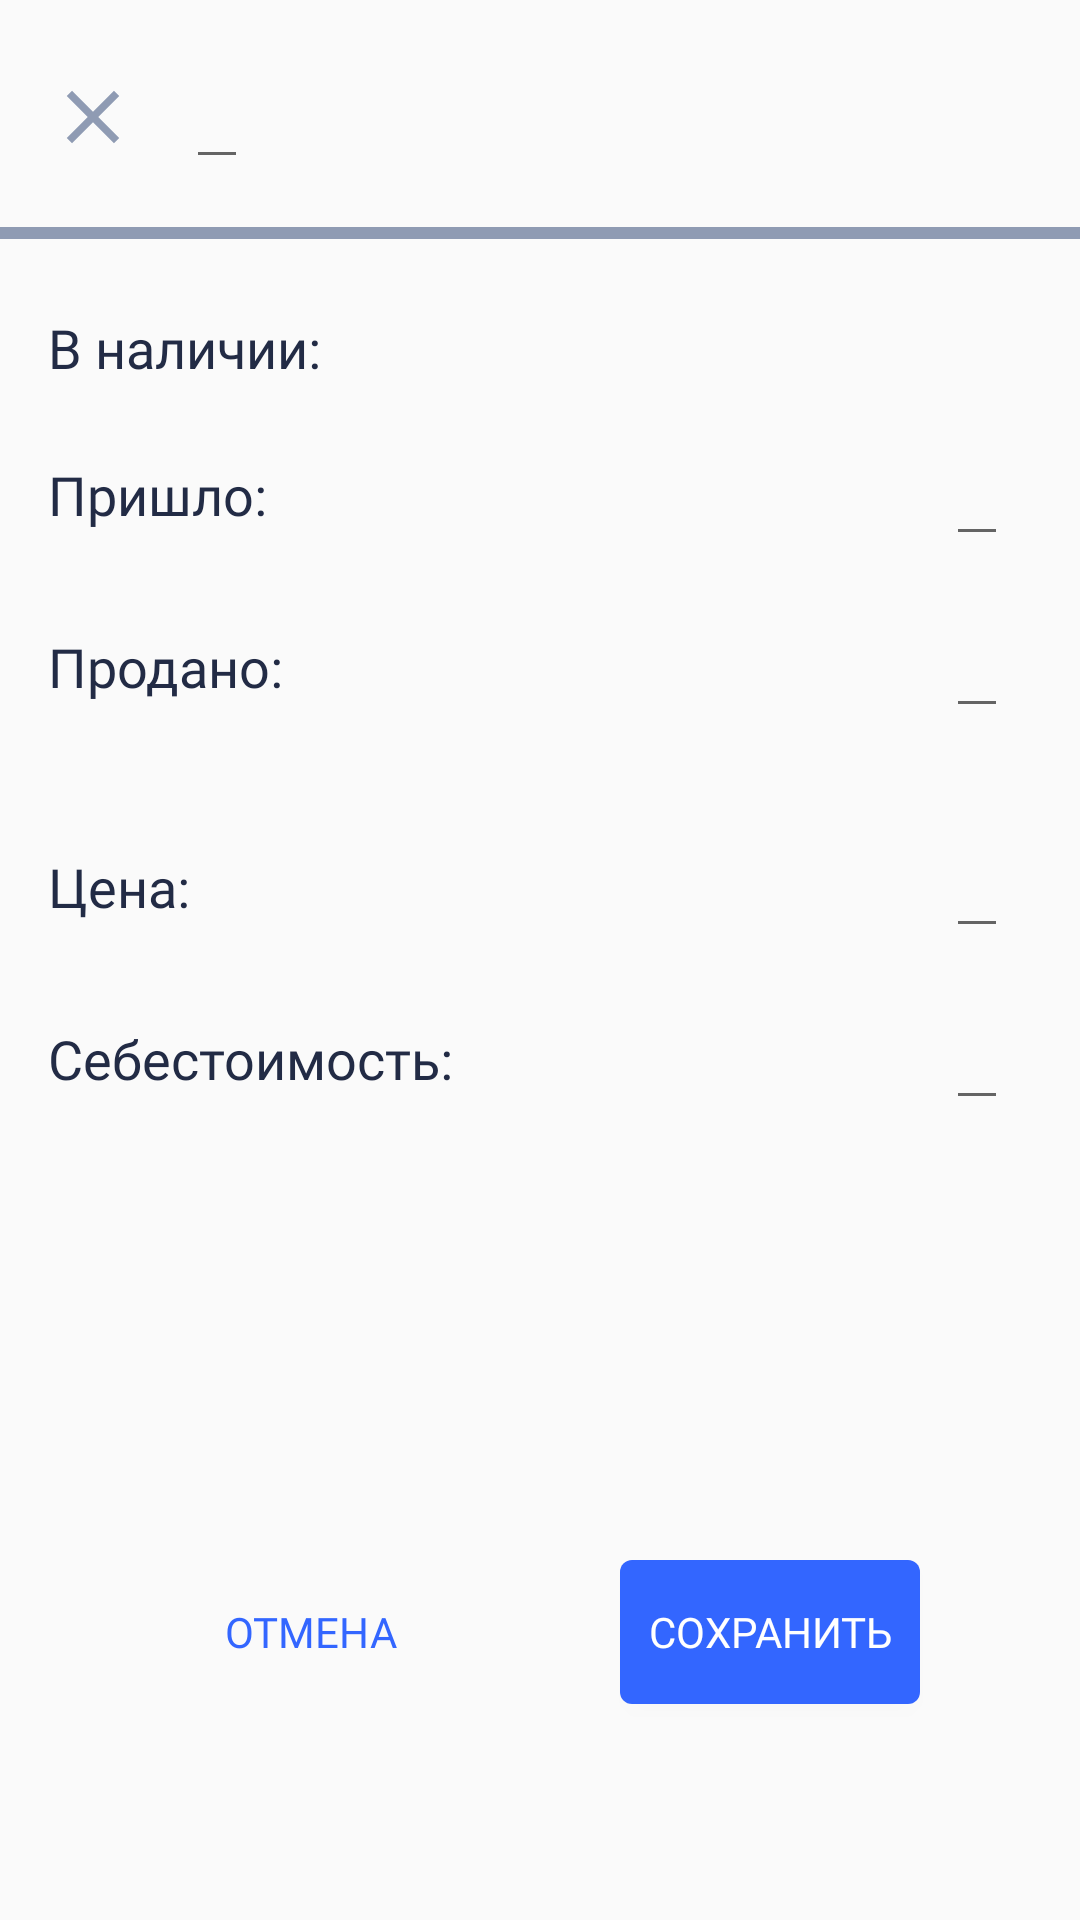

Icons on this 1080*1920 Android screen, each with the point to tap as (x,y):
close: (93,117)
